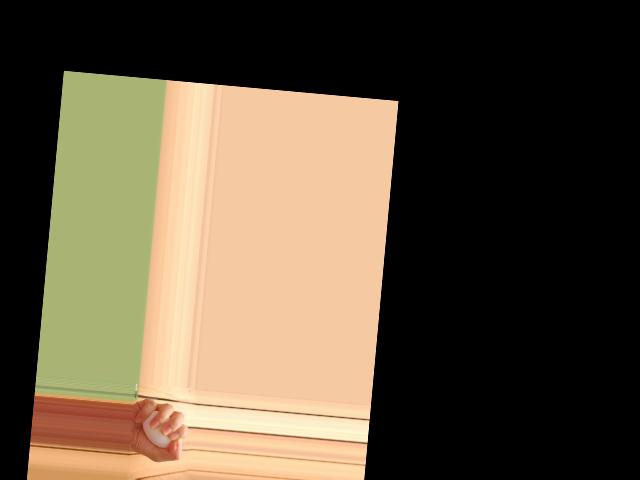egg: (140, 409, 173, 448)
